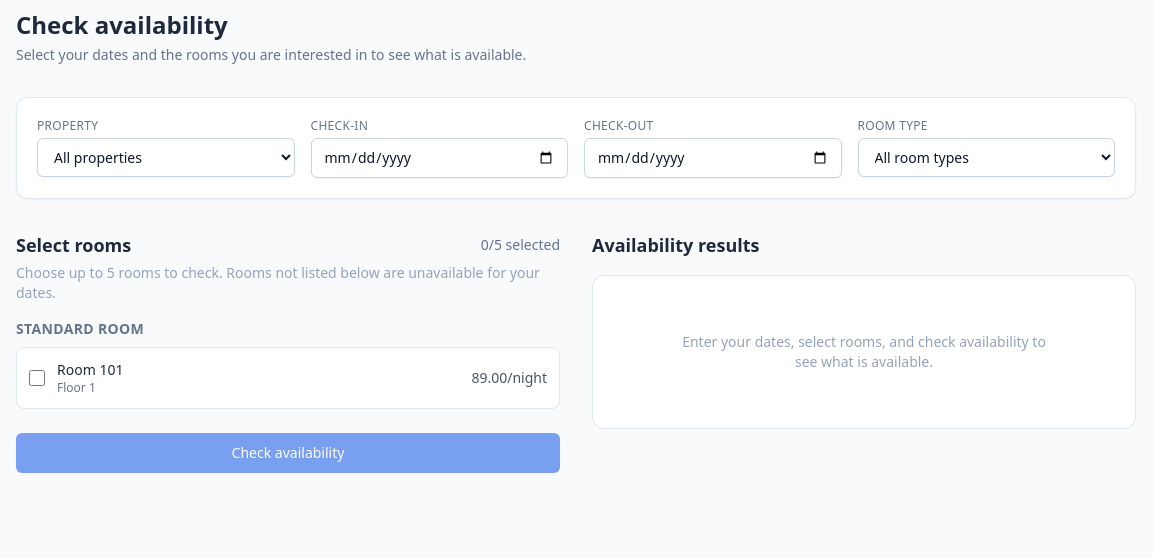
it: AvailabilitySearch page › shows empty results when no rooms are available
Expected: the text "Room 101" is shown, [57,360,123,380]
Type "2026-10-01" into the date field labelled "Check-in" at (439, 158), box [310,138,568,178]
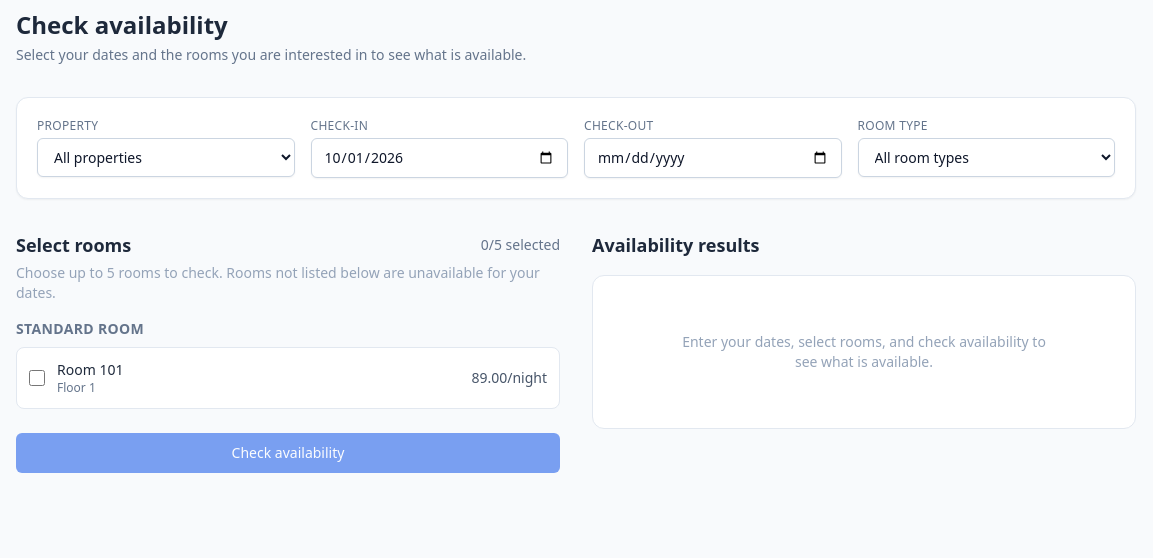
Type "2026-10-05" into the date field labelled "Check-out" at (713, 158), box [584,138,842,178]
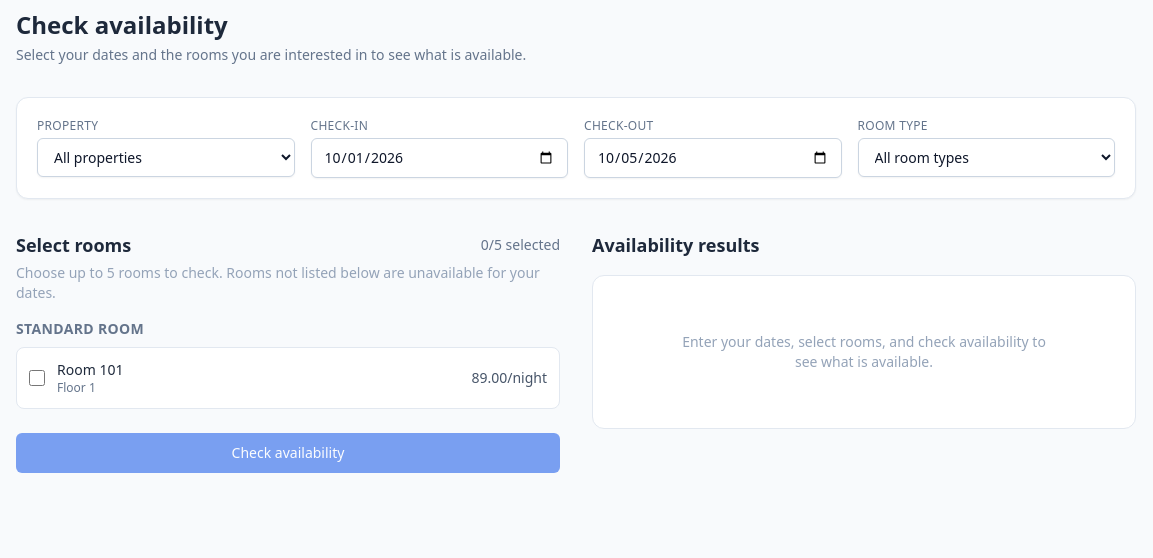
Click the checkbox labelled "Room 101 Floor 1 89.00/night" at (37, 378), box [29,370,45,386]
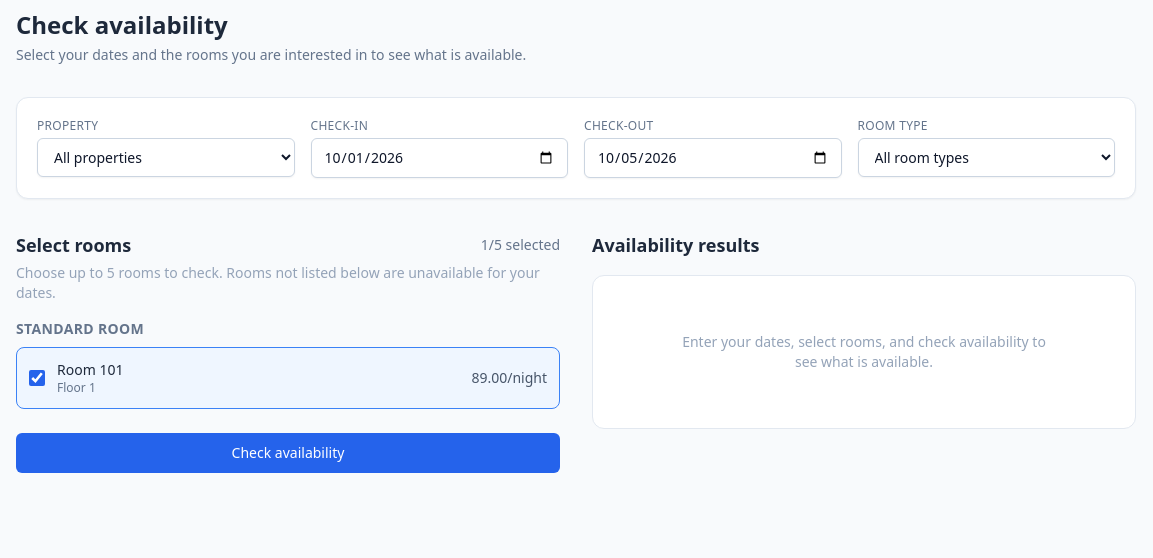
Click the button "Check availability" at (288, 453), box [16,433,560,473]
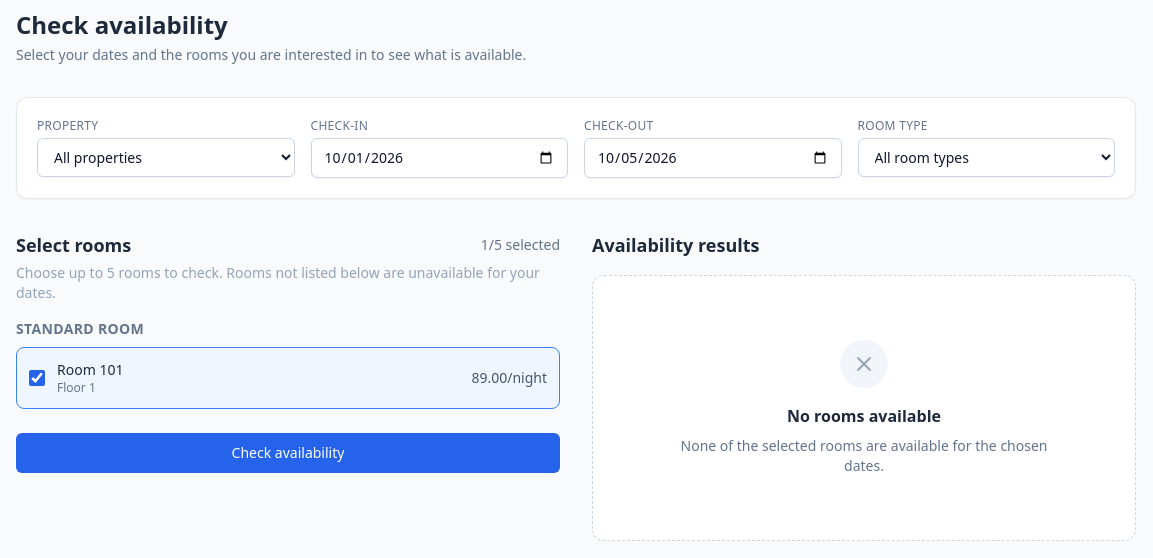
Now the heading "No rooms available" is shown, box [787,404,941,428]
